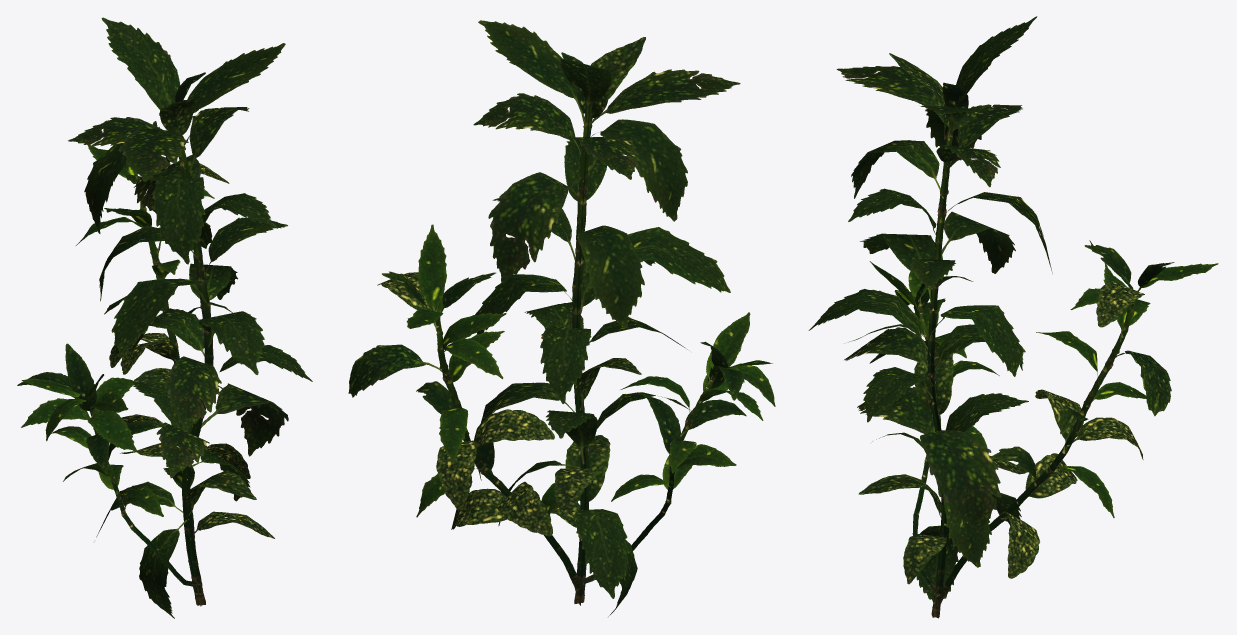
File: laurel.glb
3 views of the same model, side by side, from view 1: azimuth 30°, elevation 25°; view 2: azimuth 150°, elevation 25°; view 3: azimuth 270°, elevation 25° (orthographic). The views are drawn at different scales.
Visible parts, largest first — view 1: Megascans laurel; view 2: Megascans laurel; view 3: Megascans laurel.
Boxes of the visible parts, x1=… form: Megascans laurel: x1=17, y1=17, x2=312, y2=618; Megascans laurel: x1=348, y1=20, x2=775, y2=616; Megascans laurel: x1=808, y1=16, x2=1218, y2=618.
Bounding box in the file's own units: 0.6552 × 1.19 × 0.7677.
1 material, 1 textured.
